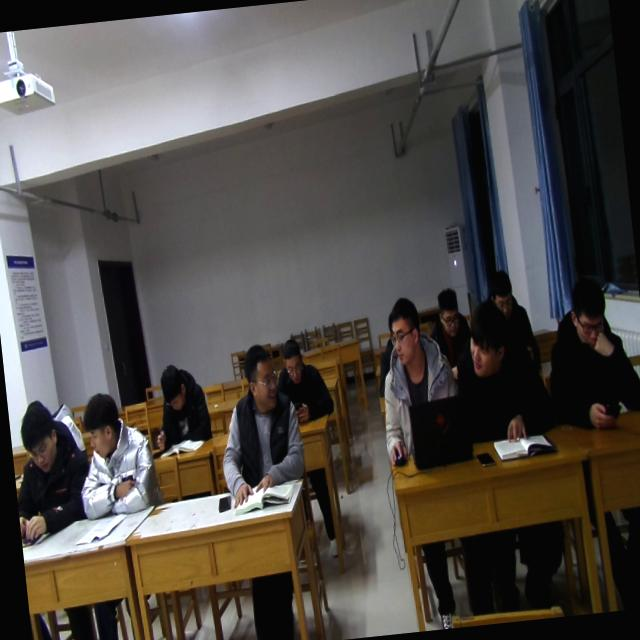down: (565, 276, 612, 356), (18, 399, 62, 478), (155, 360, 190, 416), (430, 282, 464, 338), (483, 264, 515, 314), (276, 332, 305, 386)
sit: (368, 290, 468, 470), (209, 337, 310, 509), (448, 294, 555, 450), (539, 271, 640, 434), (7, 395, 93, 545), (70, 388, 160, 522), (484, 265, 544, 372), (270, 332, 336, 428), (148, 356, 215, 450), (422, 281, 478, 387)
